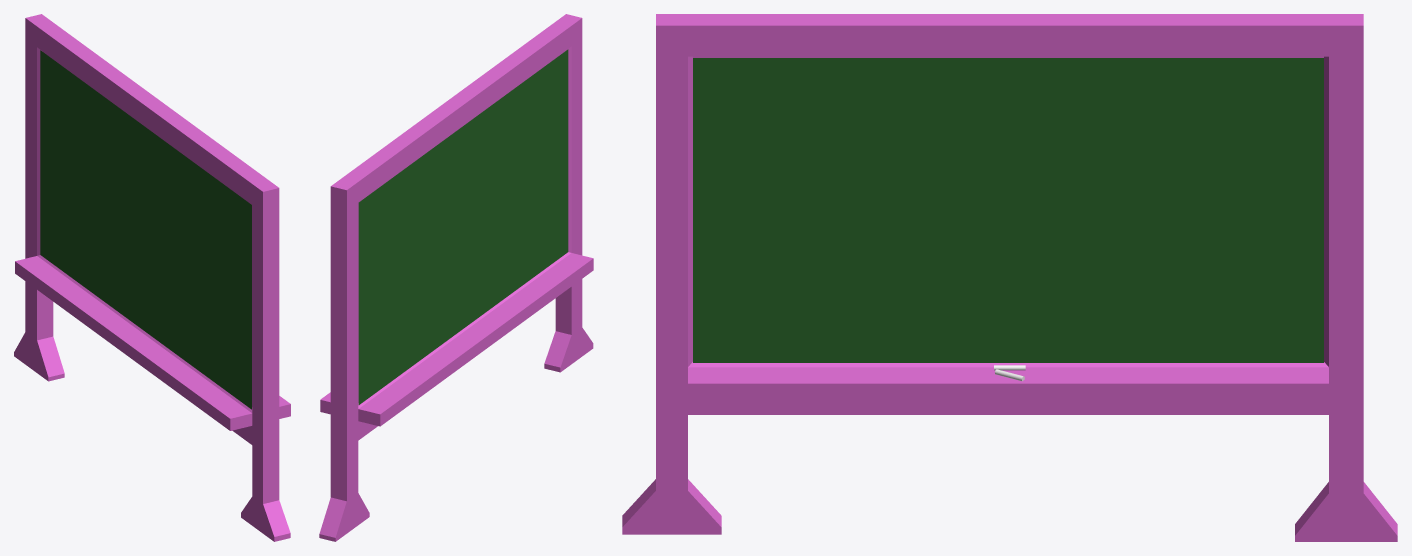
File: CHALKBOARD.glb
3 renders of one model, left to right at view 1: azimuth 30°, elevation 25°; view 2: azimuth 150°, elevation 25°; view 3: azimuth 270°, elevation 25°, orthographic. The views are drawn at different scales.
Parts seen in each view (by area): view 1: CHALKKBOARD; view 2: CHALKKBOARD; view 3: CHALKKBOARD.
Boxes of the visible parts, bbox=[...] form: CHALKKBOARD: bbox=[14, 14, 290, 541]; CHALKKBOARD: bbox=[319, 14, 593, 541]; CHALKKBOARD: bbox=[622, 14, 1397, 541].
Bounding box in the file's own units: 2.03 × 11.07 × 15.07.
